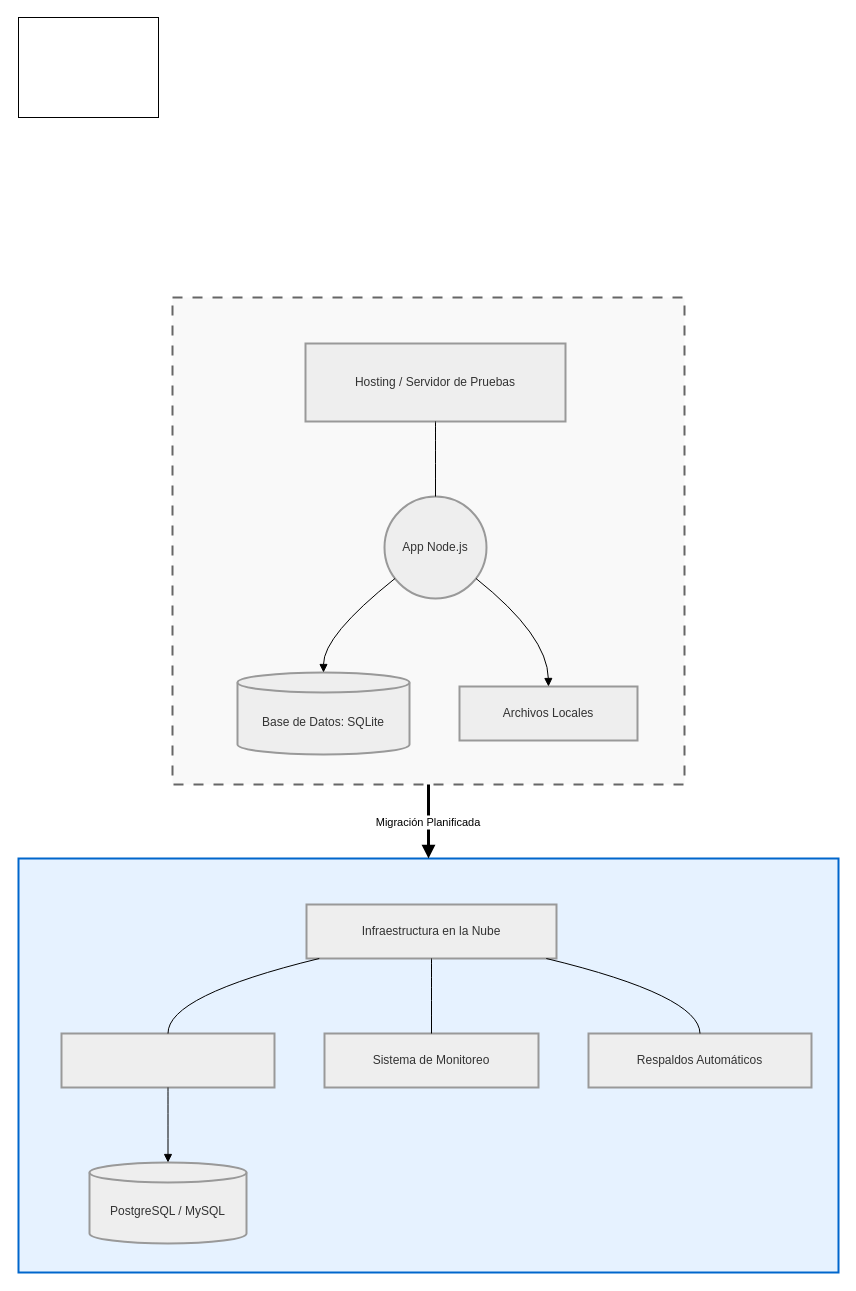
Image size: 856x1291. Some labels were removed from this diagram. Each missing label, with the box of its shape:
App en Contenedores: (60, 1032, 275, 1088)
Autor ------------------- nombre : Paulo Abarca nacionalidad : String: (18, 16, 158, 118)
Escalabilidad Futura: (17, 857, 839, 1273)
Primera Etapa: MVP: (171, 296, 685, 785)
